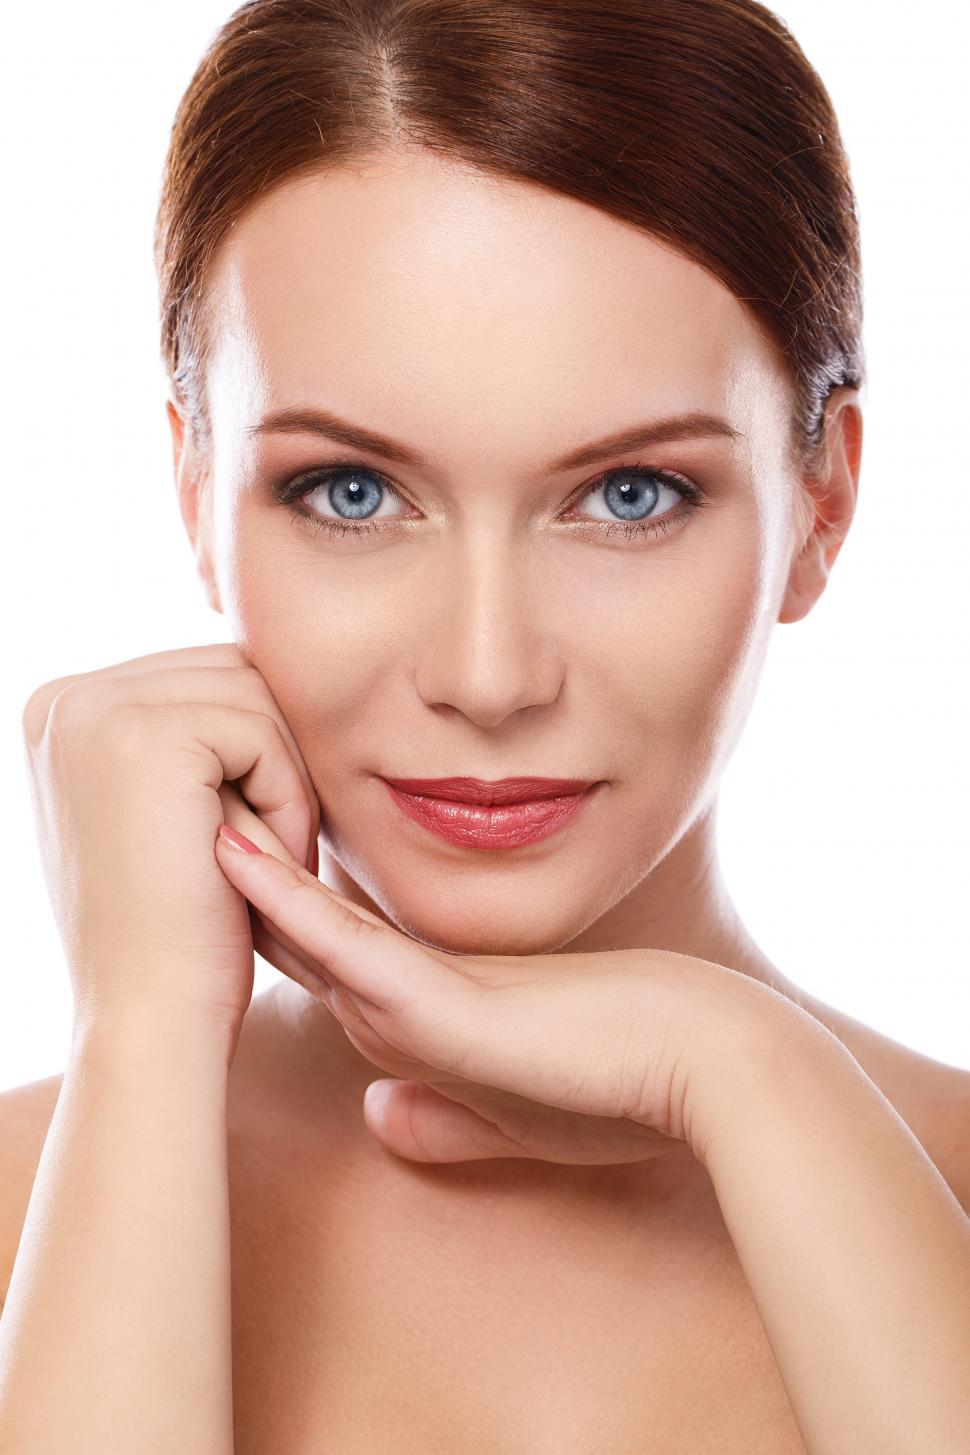face: (182, 145, 842, 966)
